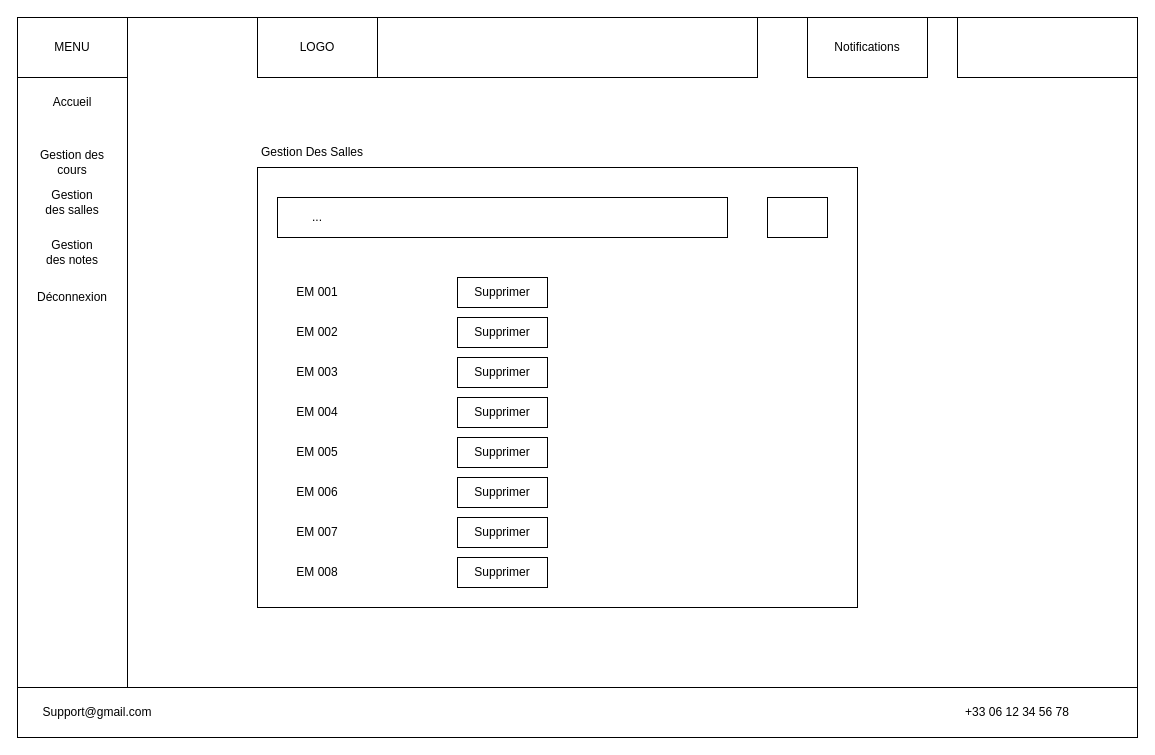
The diagram is 1155 pixels wide and 755 high, and some of its shapes have lost their labels. The shapes that lost their labels are listed below. From the top down, each one's box as (x1, y1, x2, y2) in pixels, then its label:
(376, 16, 758, 78): Nom du site
(956, 16, 1138, 78): Nom de l'utilisateur
(766, 196, 828, 238): Ajouter une salle
